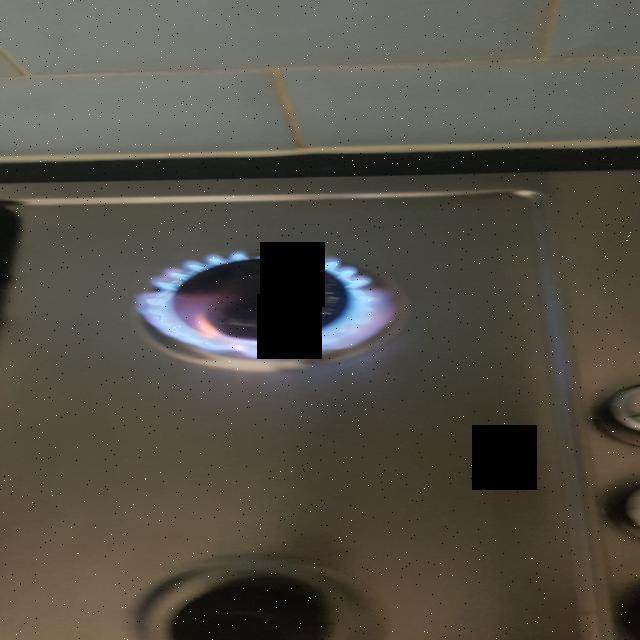Flame: (141, 260, 419, 373)
